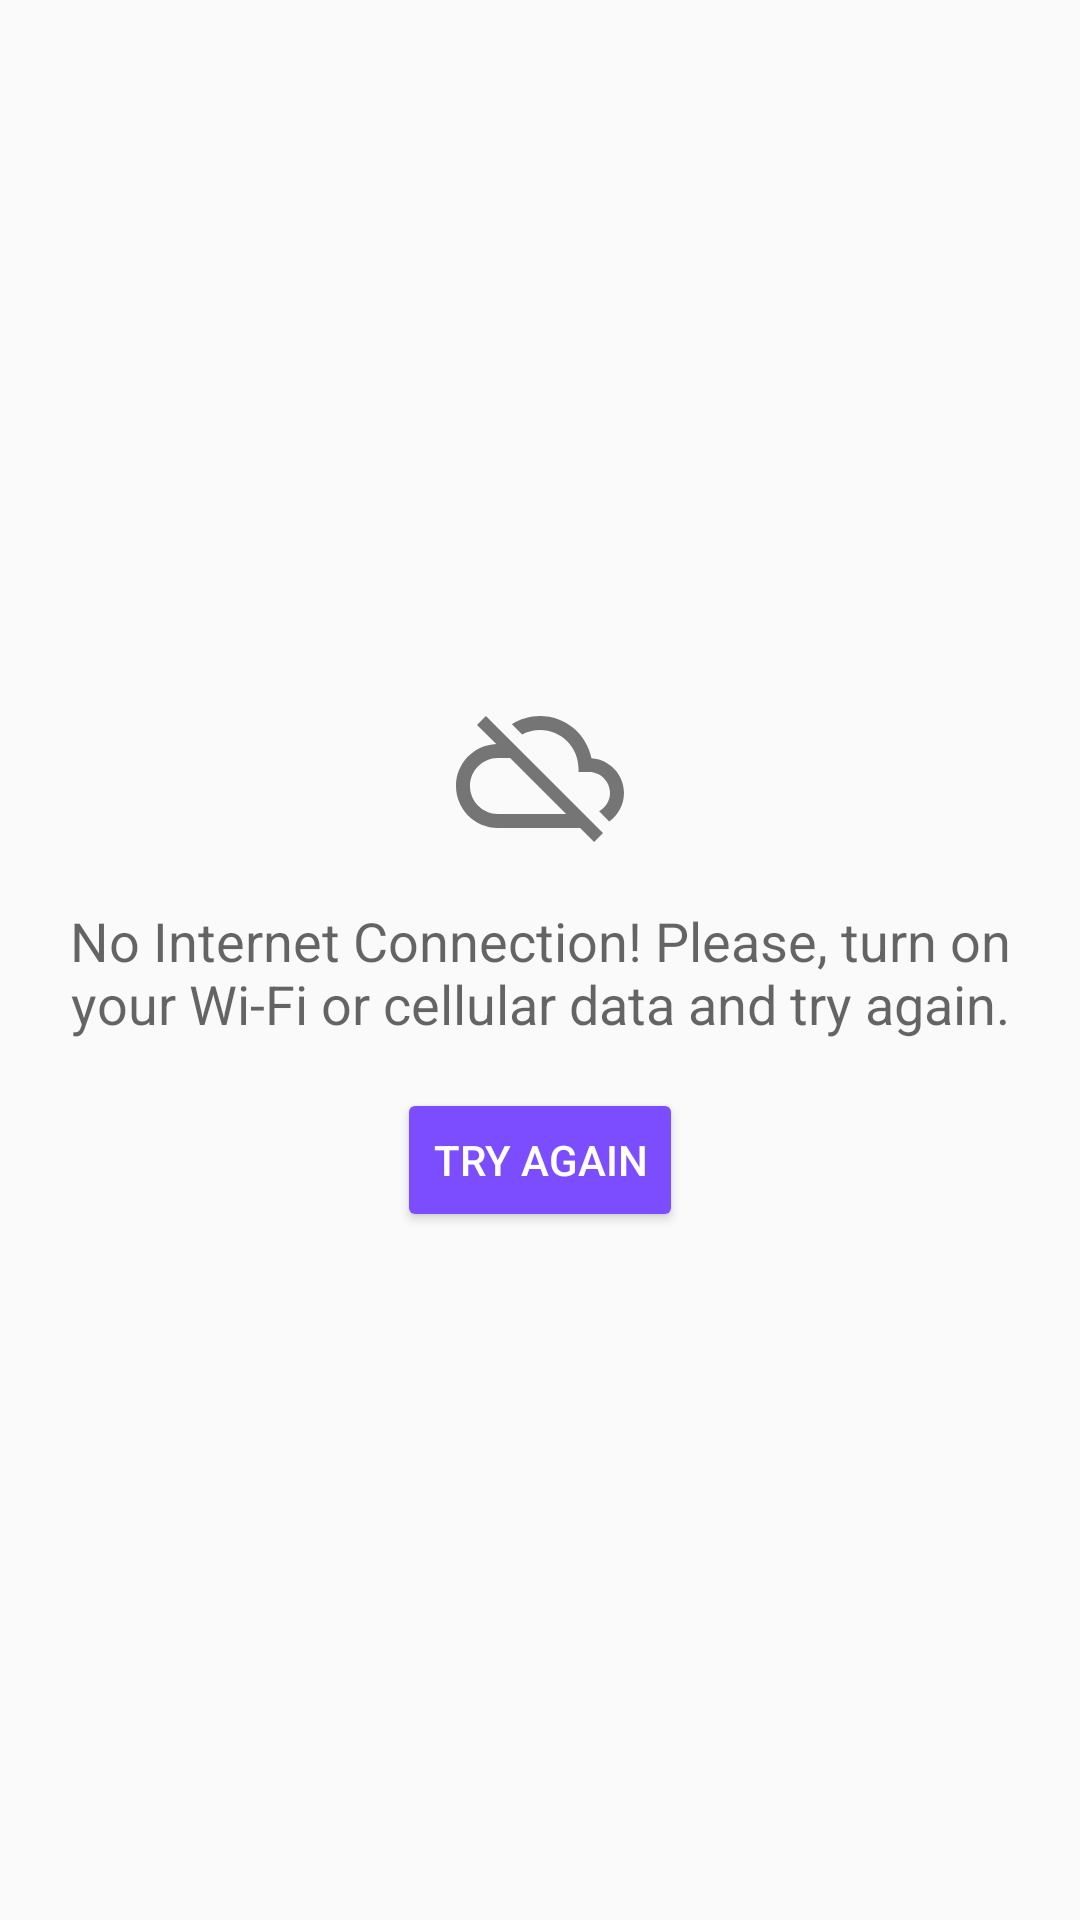

Where icons sit on this 1080 x 1920 app screen, as [left=x1, top=y1, right=x2, bottom=y2]:
cloud off: [left=456, top=716, right=624, bottom=842]
